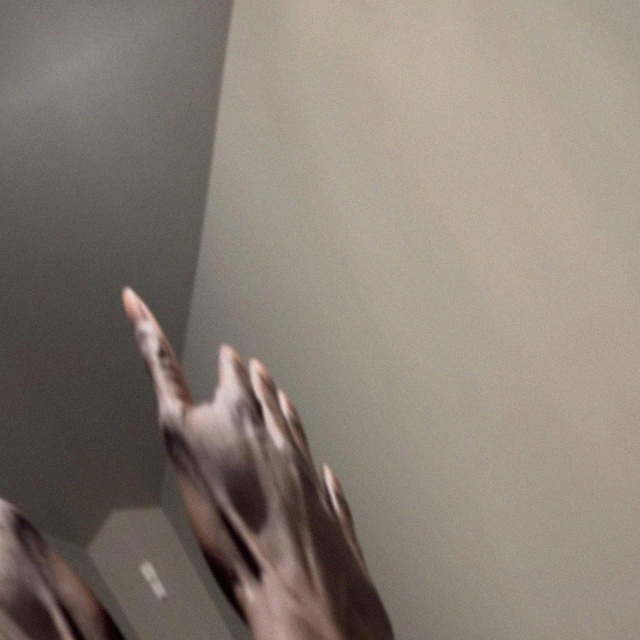Paper: (65, 236, 466, 640)
